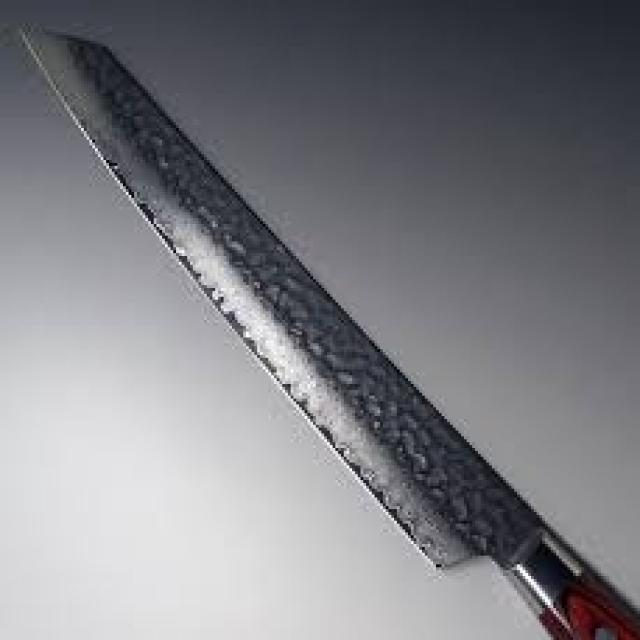knives: (0, 15, 637, 637)
